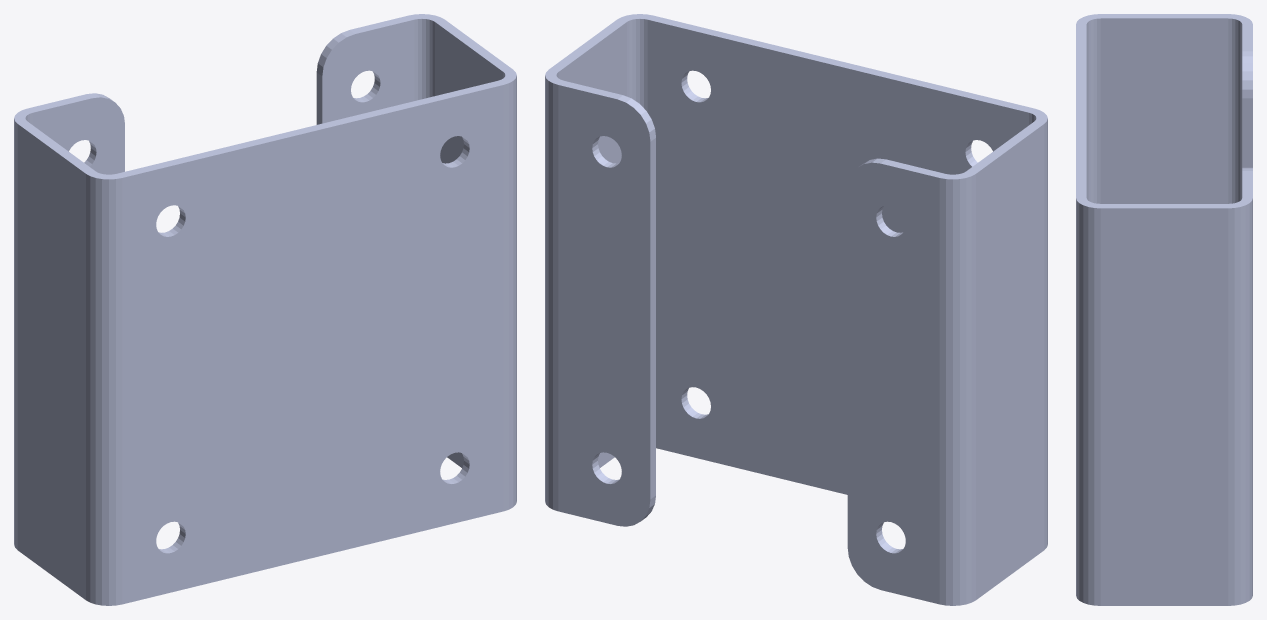
Rendered from robotino_gripper_block.dae.
3 views of the same model, side by side, from view 1: azimuth 30°, elevation 25°; view 2: azimuth 150°, elevation 25°; view 3: azimuth 270°, elevation 25° (orthographic). The views are drawn at different scales.
Visible parts, largest first — view 1: S_Object; view 2: S_Object; view 3: S_Object.
Boxes of the visible parts, x1,y1,x2,y2 form: S_Object: [14, 14, 516, 605]; S_Object: [545, 14, 1047, 605]; S_Object: [1076, 14, 1252, 605].
Size of the model in its own units: 0.065 by 0.062 by 0.025.
